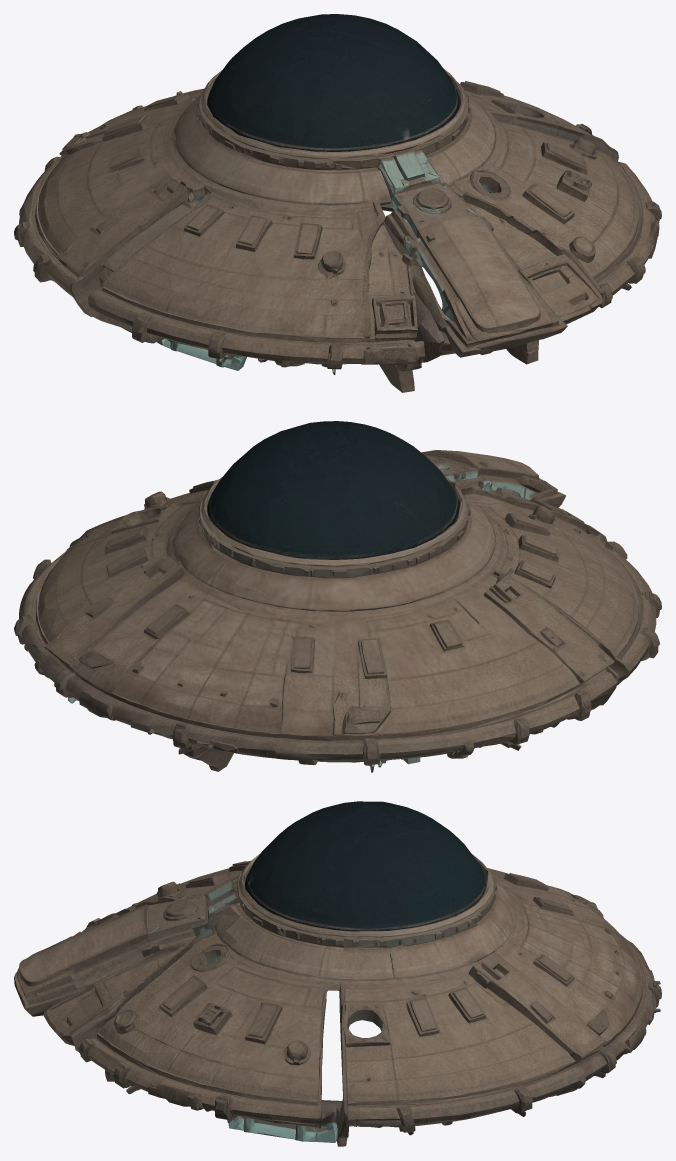
Rendered from web.glb.
The picture shows the model from 3 angles, top to bottom: view 1: azimuth 30°, elevation 25°; view 2: azimuth 150°, elevation 25°; view 3: azimuth 270°, elevation 25°; orthographic projection. The views are drawn at different scales.
Parts seen in each view (by area): view 1: output_unwrapped; view 2: output_unwrapped; view 3: output_unwrapped.
Boxes of the visible parts, box(x1,y1,x2,y2) form: output_unwrapped: box(14, 14, 661, 392); output_unwrapped: box(14, 421, 661, 772); output_unwrapped: box(14, 801, 661, 1146).
Bounding box in the file's own units: 1.79 × 0.7685 × 1.9.
1 material, 1 textured.
